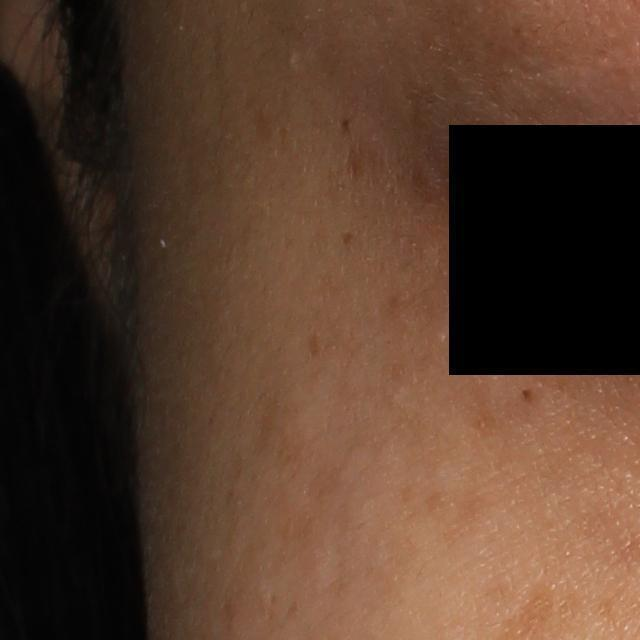melasma: (279, 413, 314, 473), (304, 327, 323, 361)
nevus: (333, 116, 352, 138), (520, 387, 533, 401)
